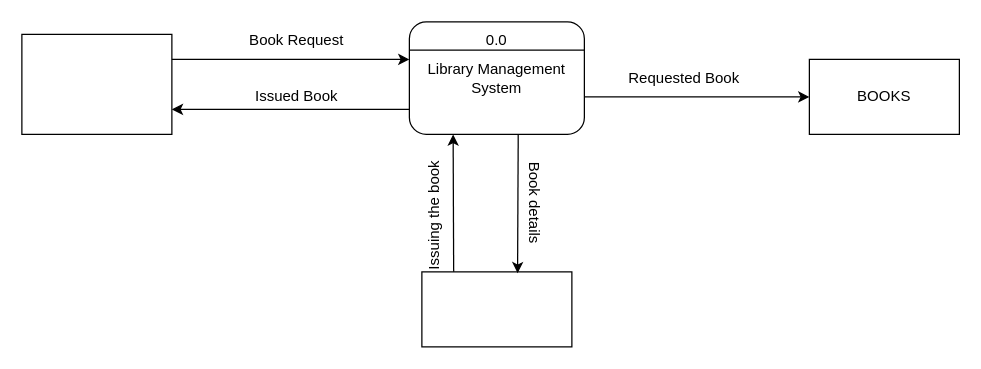
Some shapes in this 981 by 369 pixel diagram are drawn without their labels. The shapes that lost their labels are listed below. From the top down, each one's centre as x and y in pixels, then its label:
At [96,83]: "STUDENT".
At [496,309]: "ADMIN".
